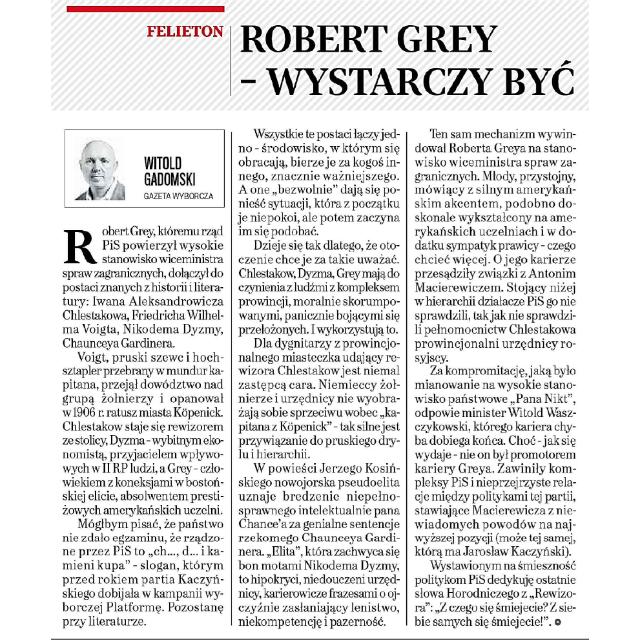author: (139, 152, 207, 192)
body: (410, 124, 590, 632), (236, 125, 402, 629), (55, 216, 228, 634)
title: (236, 17, 584, 104)
